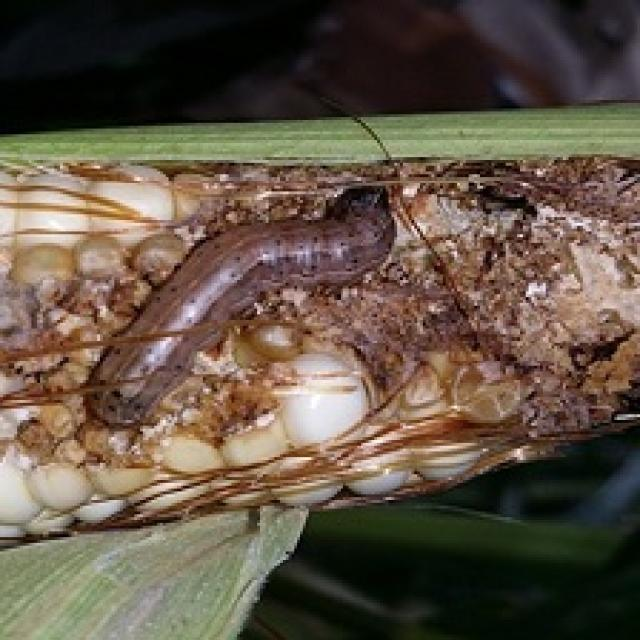Fall-armyworm: (96, 179, 408, 439)
